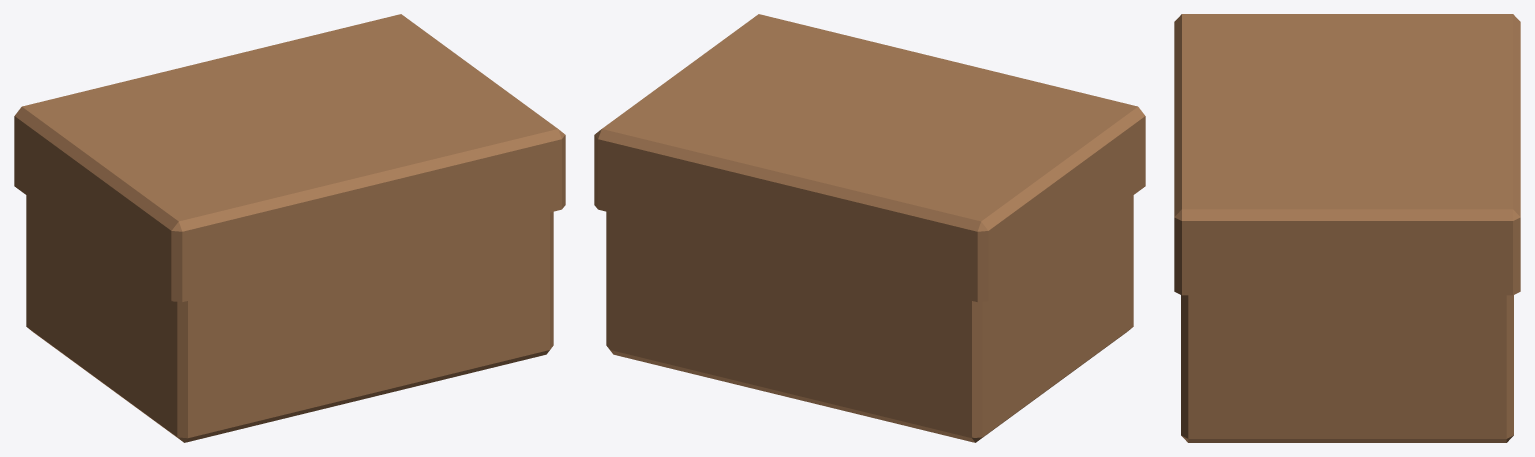
The model's file is Paper_Box.004.fbx.
The picture shows the model from 3 angles, left to right: view 1: azimuth 30°, elevation 25°; view 2: azimuth 150°, elevation 25°; view 3: azimuth 270°, elevation 25°; orthographic projection. The views are drawn at different scales.
Visible parts, largest first — view 1: Paper_Box.004; view 2: Paper_Box.004; view 3: Paper_Box.004.
Part boxes in pixels (left/top/right/bottom): Paper_Box.004: left=14, top=14, right=565, bottom=442; Paper_Box.004: left=594, top=14, right=1145, bottom=442; Paper_Box.004: left=1174, top=14, right=1520, bottom=442.
Bounding box in the file's own units: 72.82 × 39.88 × 52.59.
